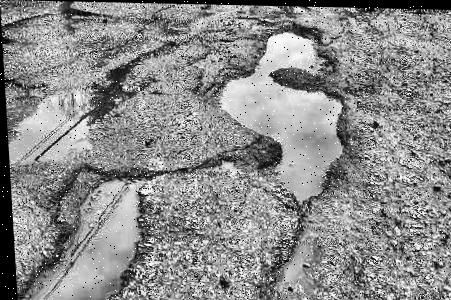pothole: (208, 17, 352, 206), (7, 160, 167, 300)
